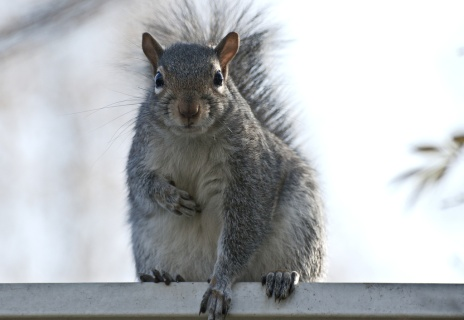Squirrel: (63, 0, 326, 319)
